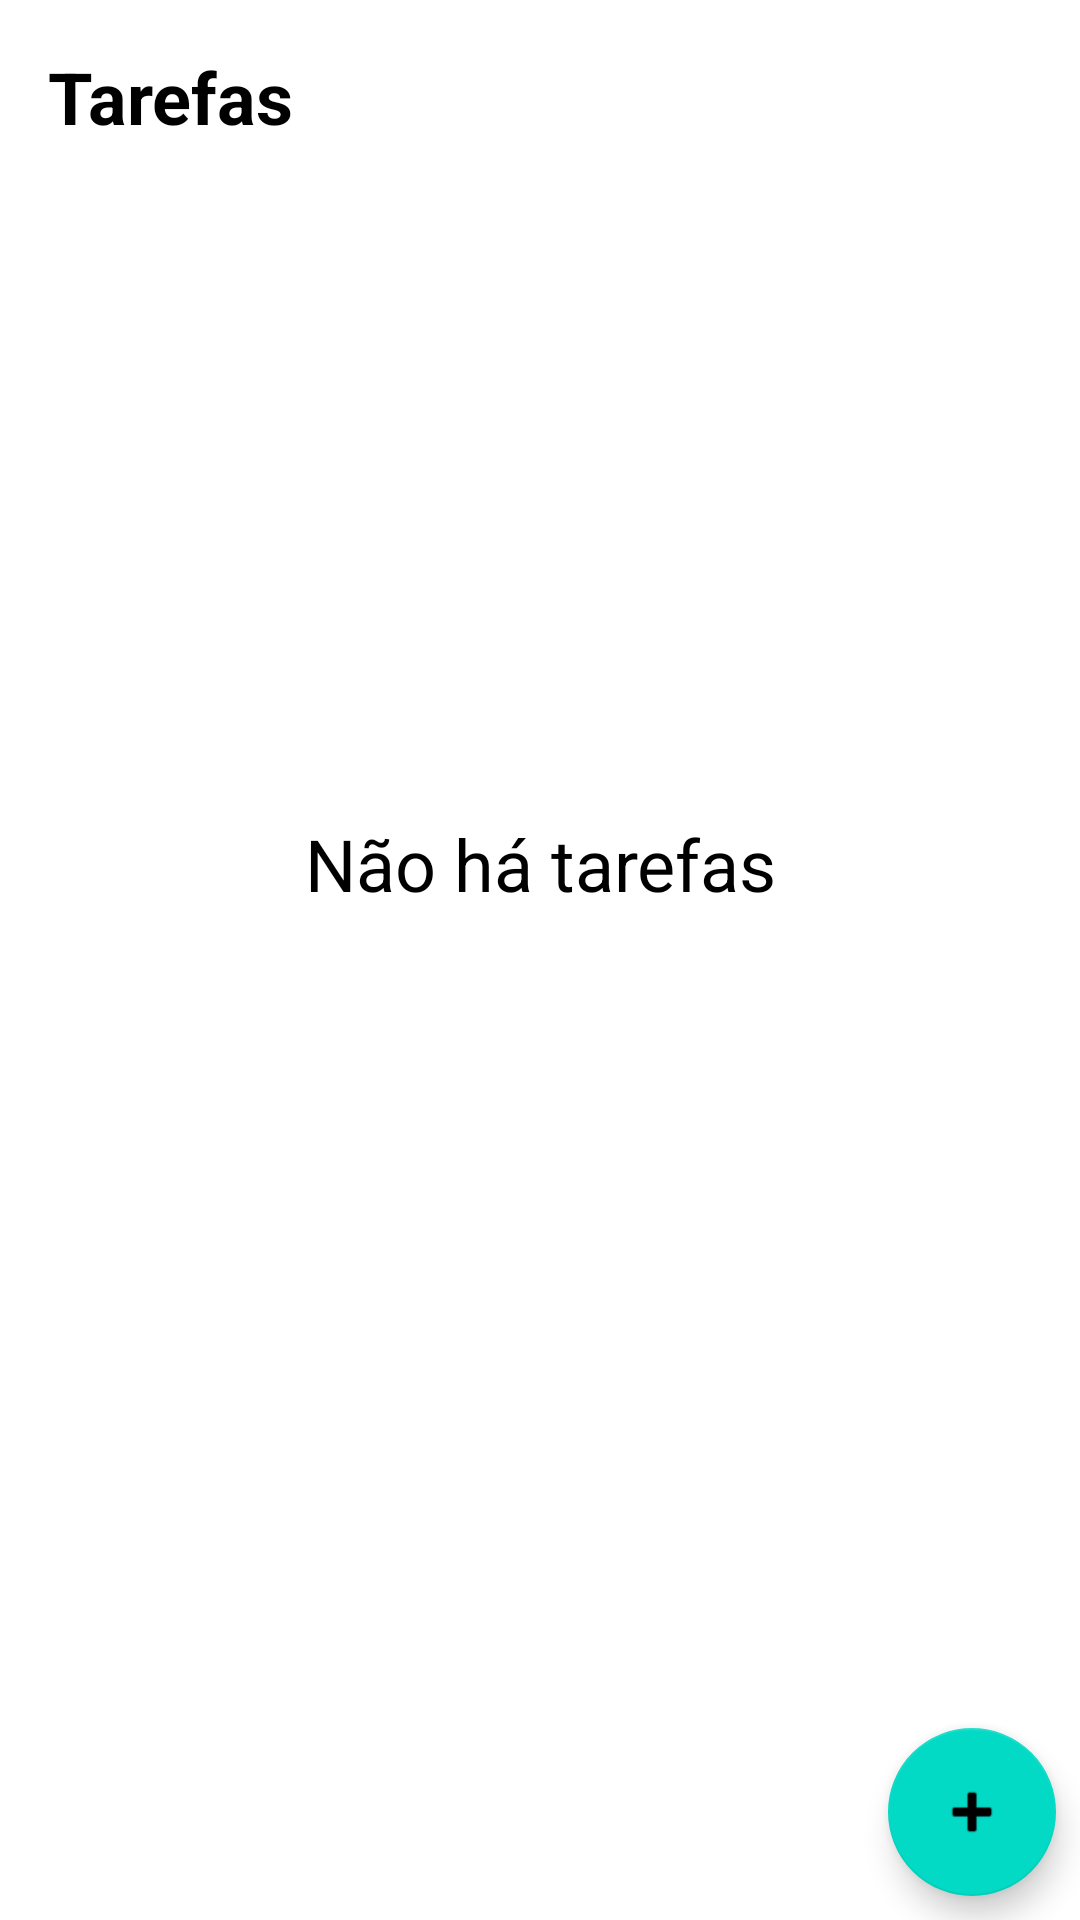

Named icons in this screenshot (1080px x 1920px) and their centers, (x,y):
add: (972,1812)
